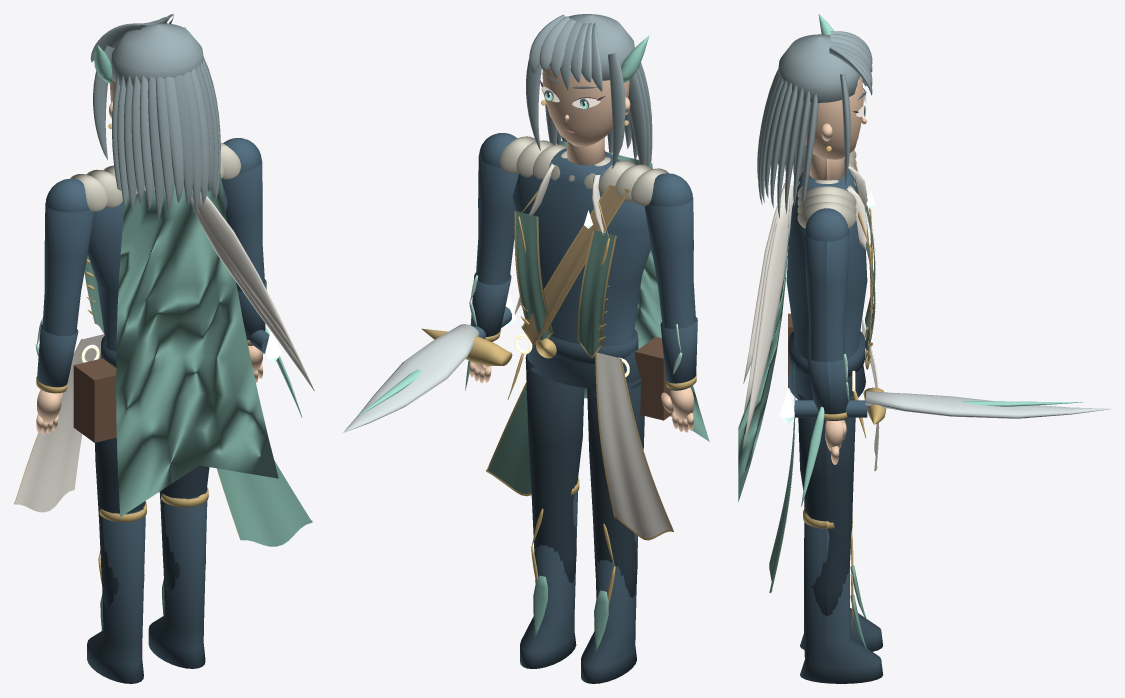
Rendered from character_12.glb.
3 views of the same model, side by side, from view 1: azimuth 30°, elevation 25°; view 2: azimuth 150°, elevation 25°; view 3: azimuth 270°, elevation 25° (orthographic). The views are drawn at different scales.
Visible parts, largest first — view 1: _MeshInstance3D_3587, _MeshInstance3D_3624, _MeshInstance3D_3590, _MeshInstance3D_3599, _MeshInstance3D_3593, _MeshInstance3D_3582, _MeshInstance3D_3625, _MeshInstance3D_3584, _MeshInstance3D_3626, _MeshInstance3D_3602, _MeshInstance3D_3588, _MeshInstance3D_3567 (+10 smaller); view 2: _MeshInstance3D_3567, _MeshInstance3D_3598, _MeshInstance3D_3582, _MeshInstance3D_3624, _MeshInstance3D_3593, _MeshInstance3D_3602, _MeshInstance3D_3589, _MeshInstance3D_3599, _MeshInstance3D_3590, _MeshInstance3D_3605, _MeshInstance3D_3581, _MeshInstance3D_3611 (+23 smaller); view 3: _MeshInstance3D_3624, _MeshInstance3D_3602, _MeshInstance3D_3598, _MeshInstance3D_3599, _MeshInstance3D_3567, _MeshInstance3D_3588, _MeshInstance3D_3605, _MeshInstance3D_3587, _MeshInstance3D_3611, _MeshInstance3D_3625, _MeshInstance3D_3581, _MeshInstance3D_3603 (+9 smaller).
Part boxes in pixels (x1,y1,x2,y2): _MeshInstance3D_3587: [116, 174, 278, 516]; _MeshInstance3D_3624: [90, 14, 220, 209]; _MeshInstance3D_3590: [87, 507, 145, 683]; _MeshInstance3D_3599: [148, 488, 207, 668]; _MeshInstance3D_3593: [42, 179, 94, 393]; _MeshInstance3D_3582: [14, 334, 104, 512]; _MeshInstance3D_3625: [112, 61, 218, 213]; _MeshInstance3D_3584: [217, 460, 312, 546]; _MeshInstance3D_3626: [124, 57, 220, 219]; _MeshInstance3D_3602: [221, 138, 269, 353]; _MeshInstance3D_3588: [183, 183, 314, 391]; _MeshInstance3D_3567: [88, 181, 227, 367]; _MeshInstance3D_3567: [512, 148, 651, 389]; _MeshInstance3D_3598: [525, 354, 584, 582]; _MeshInstance3D_3582: [596, 352, 673, 538]; _MeshInstance3D_3624: [526, 14, 650, 168]; _MeshInstance3D_3593: [644, 173, 695, 390]; _MeshInstance3D_3602: [473, 133, 519, 341]; _MeshInstance3D_3589: [587, 378, 644, 597]; _MeshInstance3D_3599: [520, 491, 577, 668]; _MeshInstance3D_3590: [581, 533, 637, 683]; _MeshInstance3D_3605: [343, 324, 479, 432]; _MeshInstance3D_3581: [499, 136, 668, 205]; _MeshInstance3D_3611: [541, 67, 630, 146]; _MeshInstance3D_3624: [760, 31, 872, 218]; _MeshInstance3D_3602: [794, 208, 867, 420]; _MeshInstance3D_3598: [797, 394, 855, 615]; _MeshInstance3D_3599: [800, 509, 882, 683]; _MeshInstance3D_3567: [786, 169, 867, 400]; _MeshInstance3D_3588: [743, 183, 793, 447]; _MeshInstance3D_3605: [865, 391, 1110, 418]; _MeshInstance3D_3587: [738, 198, 789, 501]; _MeshInstance3D_3611: [798, 77, 866, 159]; _MeshInstance3D_3625: [758, 74, 811, 207]; _MeshInstance3D_3581: [797, 150, 856, 228]; _MeshInstance3D_3603: [807, 355, 848, 414].
Size of the model in its own units: 1.07 by 2.56 by 1.39.
